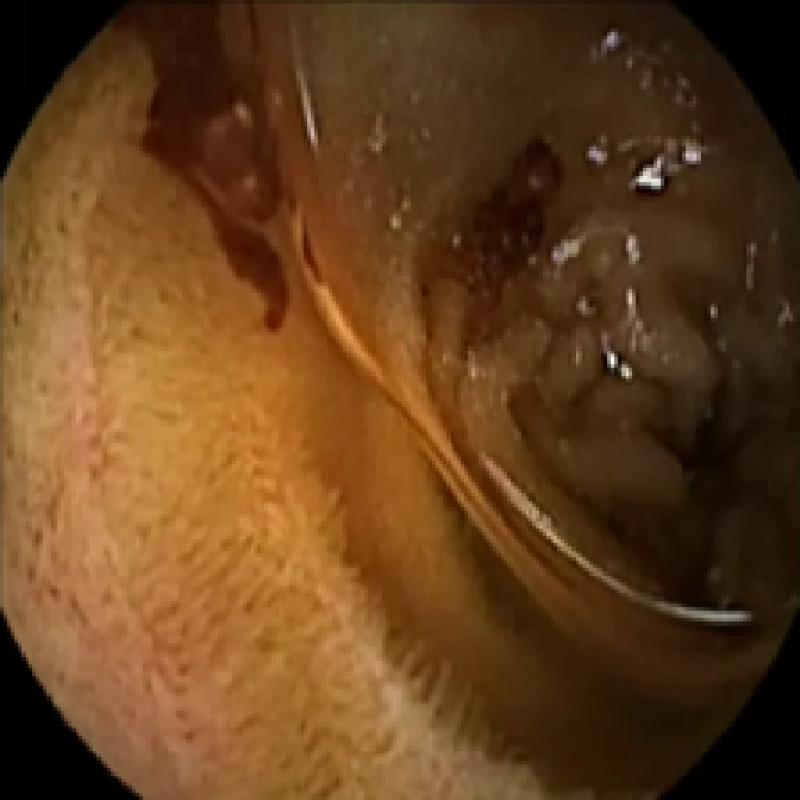bleeding: (124, 0, 293, 325), (449, 137, 564, 321)
